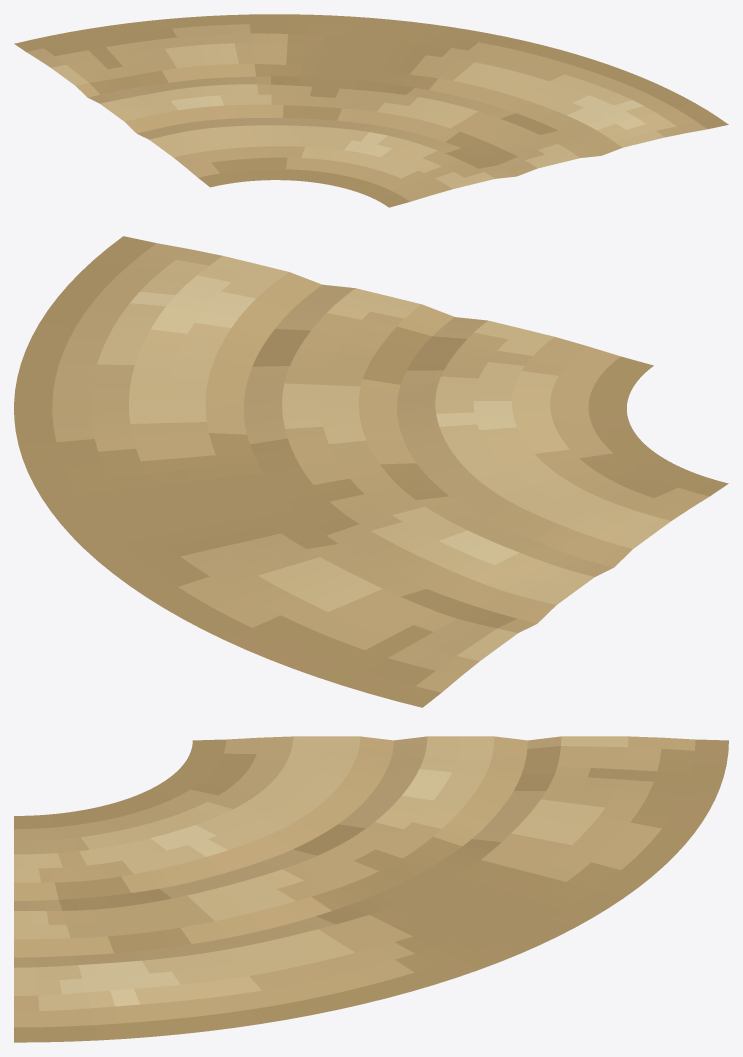
Rendered from suelo-arena-arena-camino-curva.glb.
3 renders of one model, top to bottom at view 1: azimuth 30°, elevation 25°; view 2: azimuth 150°, elevation 25°; view 3: azimuth 270°, elevation 25°, orthographic. The views are drawn at different scales.
Visible parts, largest first — view 1: arena_camino_curva_ArenaOscura, arena_camino_curva_ArenaHuella, arena_camino_curva_ArenaMedia, arena_camino_curva_ArenaClara; view 2: arena_camino_curva_ArenaOscura, arena_camino_curva_ArenaHuella, arena_camino_curva_ArenaMedia, arena_camino_curva_ArenaClara; view 3: arena_camino_curva_ArenaOscura, arena_camino_curva_ArenaHuella, arena_camino_curva_ArenaMedia, arena_camino_curva_ArenaClara.
Part boxes in pixels (left/top/right/bottom): arena_camino_curva_ArenaOscura: left=26, top=24, right=707, bottom=201; arena_camino_curva_ArenaHuella: left=14, top=14, right=728, bottom=207; arena_camino_curva_ArenaMedia: left=51, top=43, right=676, bottom=188; arena_camino_curva_ArenaClara: left=171, top=95, right=645, bottom=156; arena_camino_curva_ArenaOscura: left=52, top=243, right=709, bottom=692; arena_camino_curva_ArenaHuella: left=14, top=236, right=728, bottom=707; arena_camino_curva_ArenaMedia: left=97, top=256, right=670, bottom=660; arena_camino_curva_ArenaClara: left=130, top=275, right=519, bottom=565; arena_camino_curva_ArenaOscura: left=14, top=736, right=695, bottom=1027; arena_camino_curva_ArenaHuella: left=14, top=739, right=728, bottom=1042; arena_camino_curva_ArenaMedia: left=14, top=736, right=628, bottom=1011; arena_camino_curva_ArenaClara: left=59, top=769, right=451, bottom=1006.
Bounding box in the file's own units: 8 × 0.0781 × 8.
